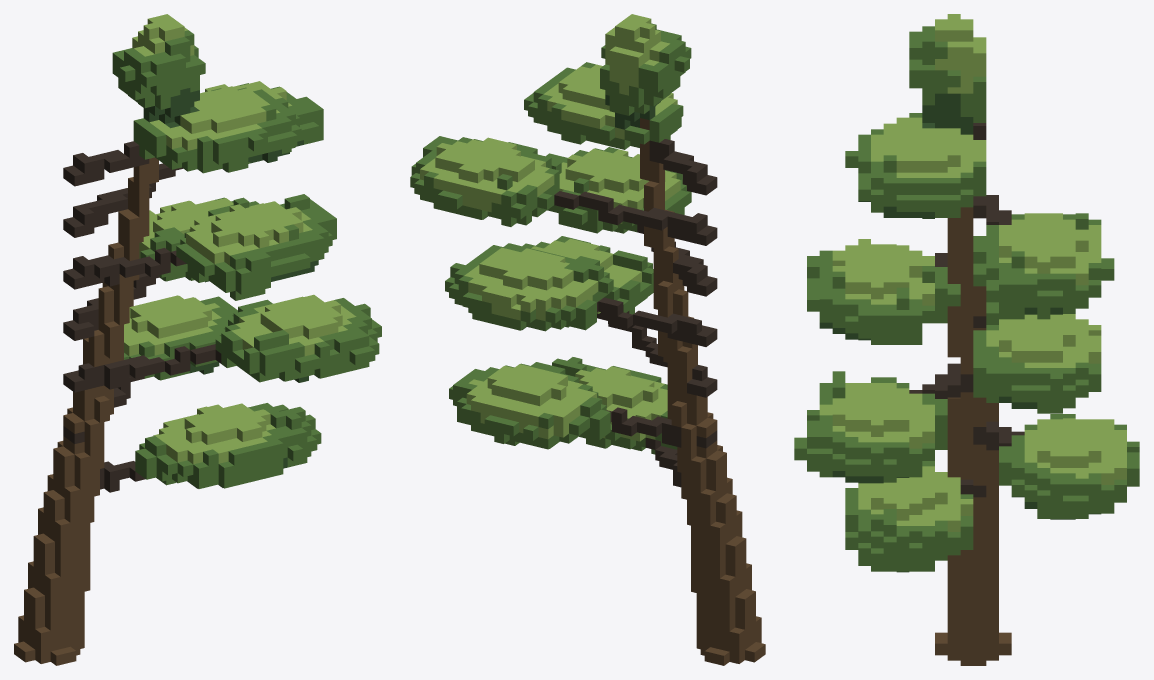
Rendered from tall_pine_v2_species2_near.glb.
3 views of the same model, side by side, from view 1: azimuth 30°, elevation 25°; view 2: azimuth 150°, elevation 25°; view 3: azimuth 270°, elevation 25° (orthographic). The views are drawn at different scales.
Visible parts, largest first — view 1: tall_pine_v2_species2_near; view 2: tall_pine_v2_species2_near; view 3: tall_pine_v2_species2_near.
Part boxes in pixels (x1=…): tall_pine_v2_species2_near: x1=14, y1=14, x2=381, y2=665; tall_pine_v2_species2_near: x1=410, y1=14, x2=765, y2=665; tall_pine_v2_species2_near: x1=794, y1=14, x2=1139, y2=665.
Bounding box in the file's own units: 4 × 7.38 × 3.38.
1 material, 1 textured.
